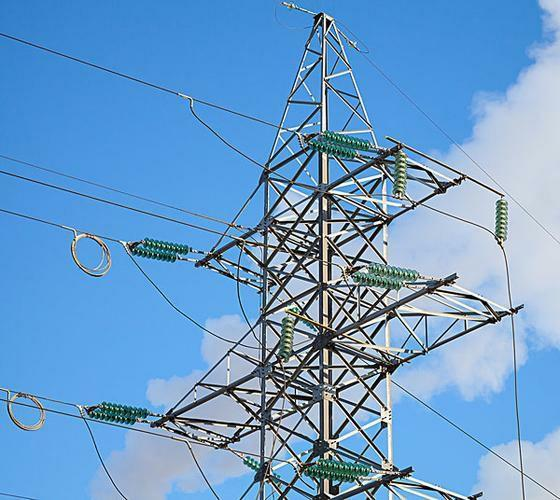power_tower: (200, 10, 519, 500)
